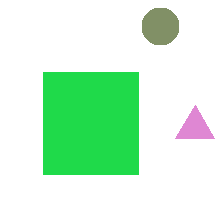circle: (142, 8, 178, 44)
rectangle: (43, 72, 138, 174)
triangle: (175, 105, 214, 138)
